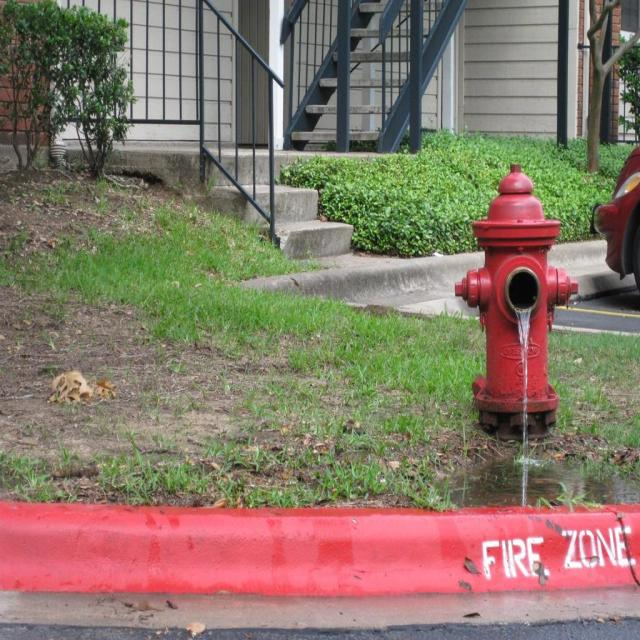fire_hydrant: (457, 166, 583, 444)
